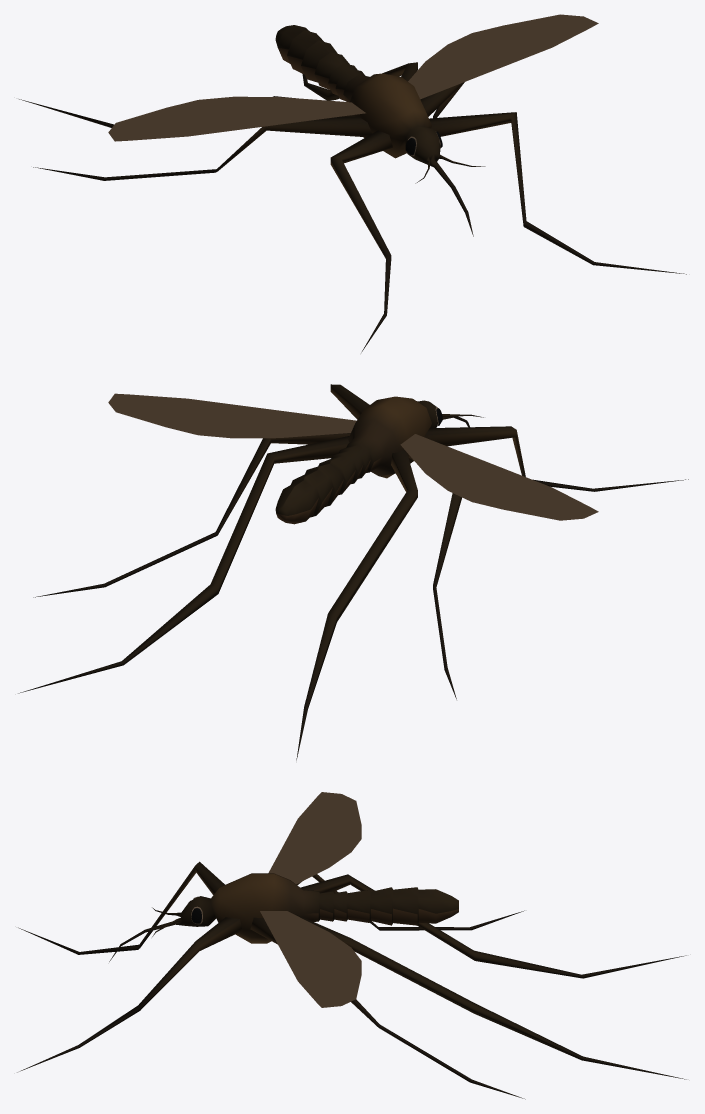
Rendered from animals-flyinginsects-mosquito_v1.fbx.
3 views of the same model, one above another, from view 1: azimuth 30°, elevation 25°; view 2: azimuth 150°, elevation 25°; view 3: azimuth 270°, elevation 25° (orthographic). The views are drawn at different scales.
Visible parts, largest first — view 1: Mosquito.001; view 2: Mosquito.001; view 3: Mosquito.001.
Boxes of the visible parts, x1,y1,x2,y2 form: Mosquito.001: (19, 14, 686, 352); Mosquito.001: (18, 384, 688, 760); Mosquito.001: (17, 792, 686, 1099).
Bounding box in the file's own units: 0.2546 × 0.0794 × 0.3372.
